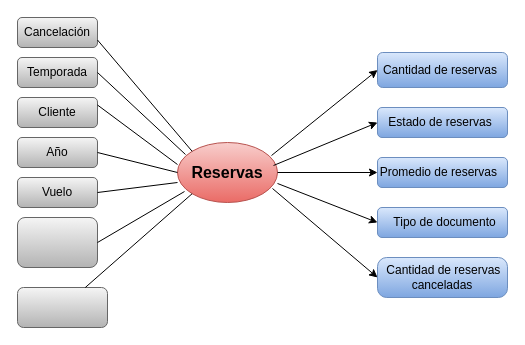
The diagram is 525 pixels wide and 345 high, and some of its shapes have lost their labels. The centre of each missing label's shape, as x and y in pixels:
Rutas internacionales: (x=62, y=307)
Rutas nacionales: (x=57, y=242)
